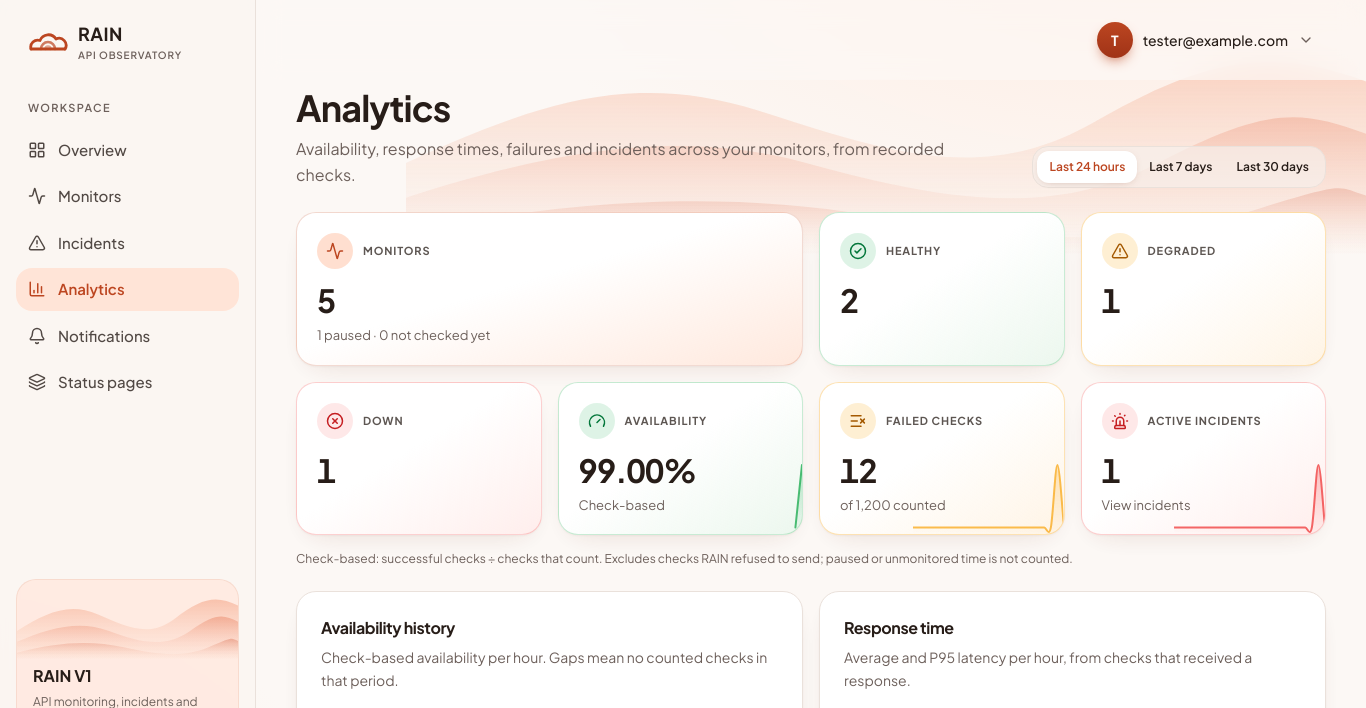
Scenario: analytics dashboard › changes the range and requests it from the API
Expected: the heading named "Failed checks: 12" is shown, [840,450,877,490]
Click the button "Last 7 days": (1181, 167) [1137,151,1224,183]
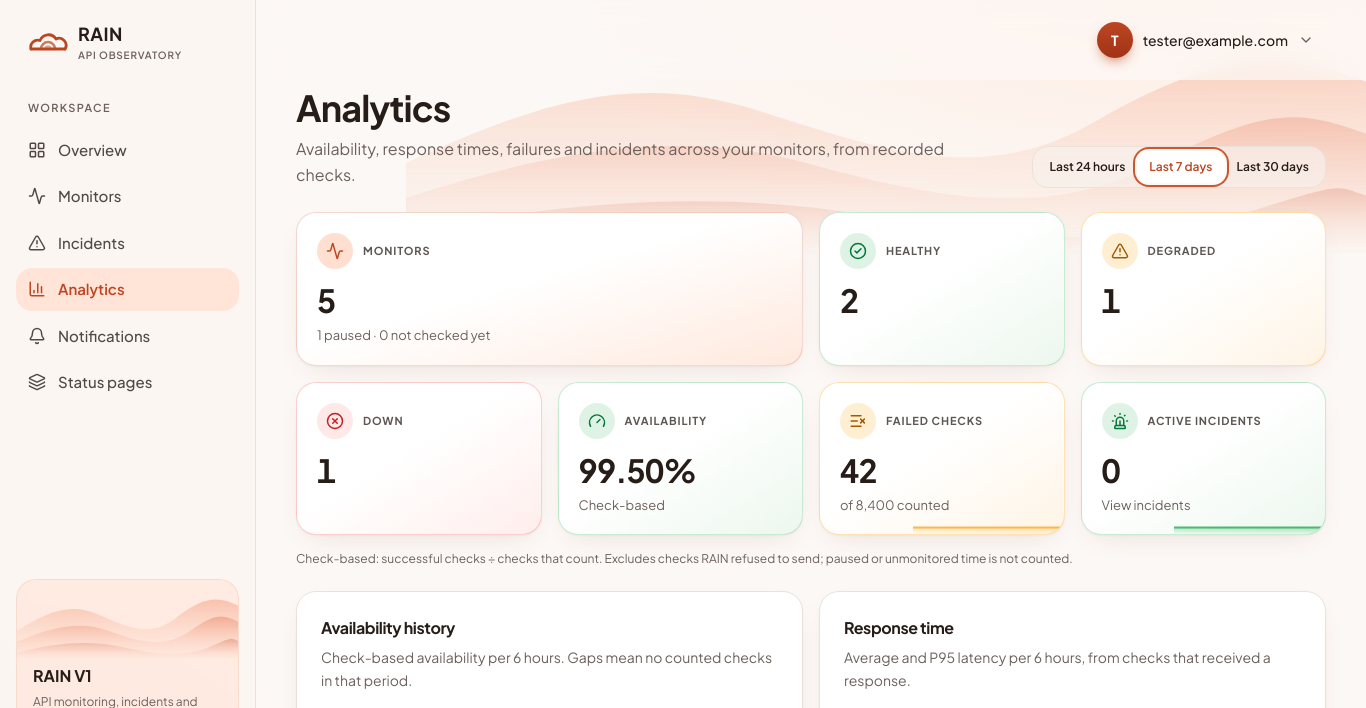
Expected: the heading named "Failed checks: 42" is shown, [840,450,877,490]
